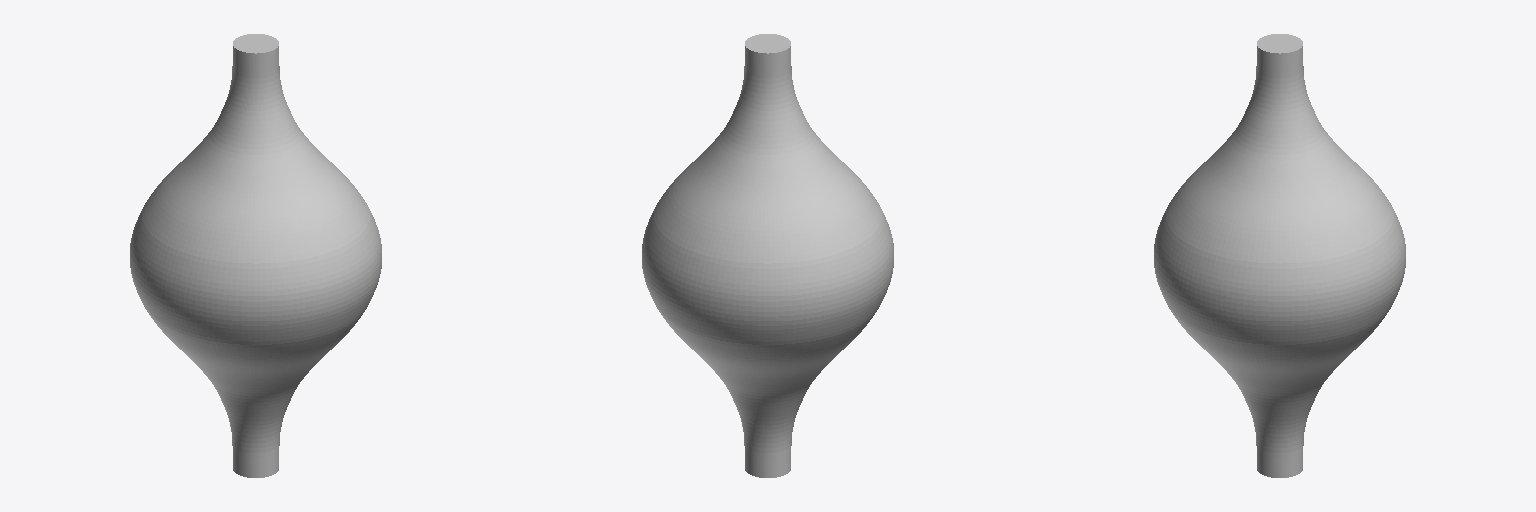
Rendered from drop03.obj.
The picture shows the model from 3 angles: view 1: azimuth 30°, elevation 25°; view 2: azimuth 150°, elevation 25°; view 3: azimuth 270°, elevation 25°; orthographic projection.
Parts seen in each view (by area): view 1: 190708_Ether_100type_drop3; view 2: 190708_Ether_100type_drop3; view 3: 190708_Ether_100type_drop3.
Part boxes in pixels (left/top/right/bottom): 190708_Ether_100type_drop3: left=130, top=34, right=381, bottom=477; 190708_Ether_100type_drop3: left=642, top=34, right=893, bottom=477; 190708_Ether_100type_drop3: left=1154, top=34, right=1405, bottom=477.
Size of the model in its own units: 0.5392 by 1 by 0.5392.